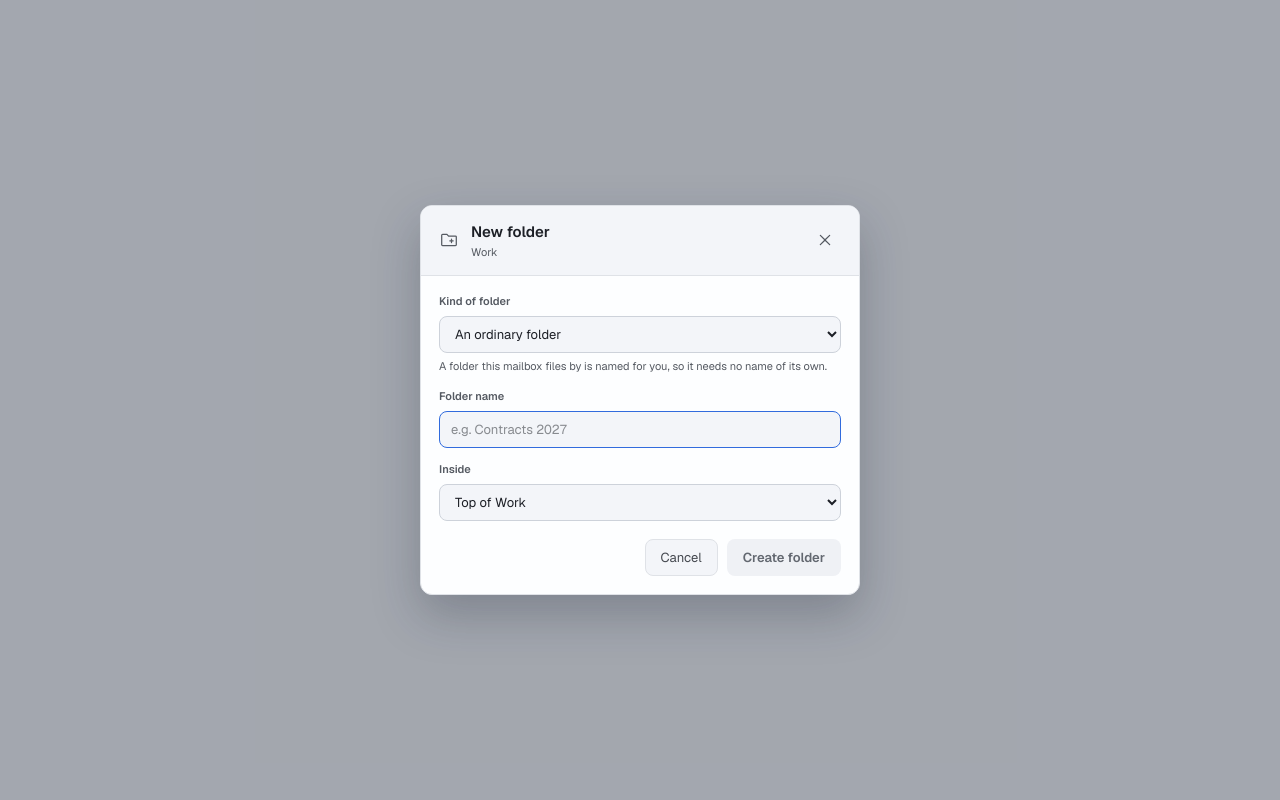
FolderMaintenanceProvider › refuses to save a name a sibling already carries, before the deployment has to say so
Type "Projects" into the field labelled "Folder name" at (640, 429), box [439,410,841,448]
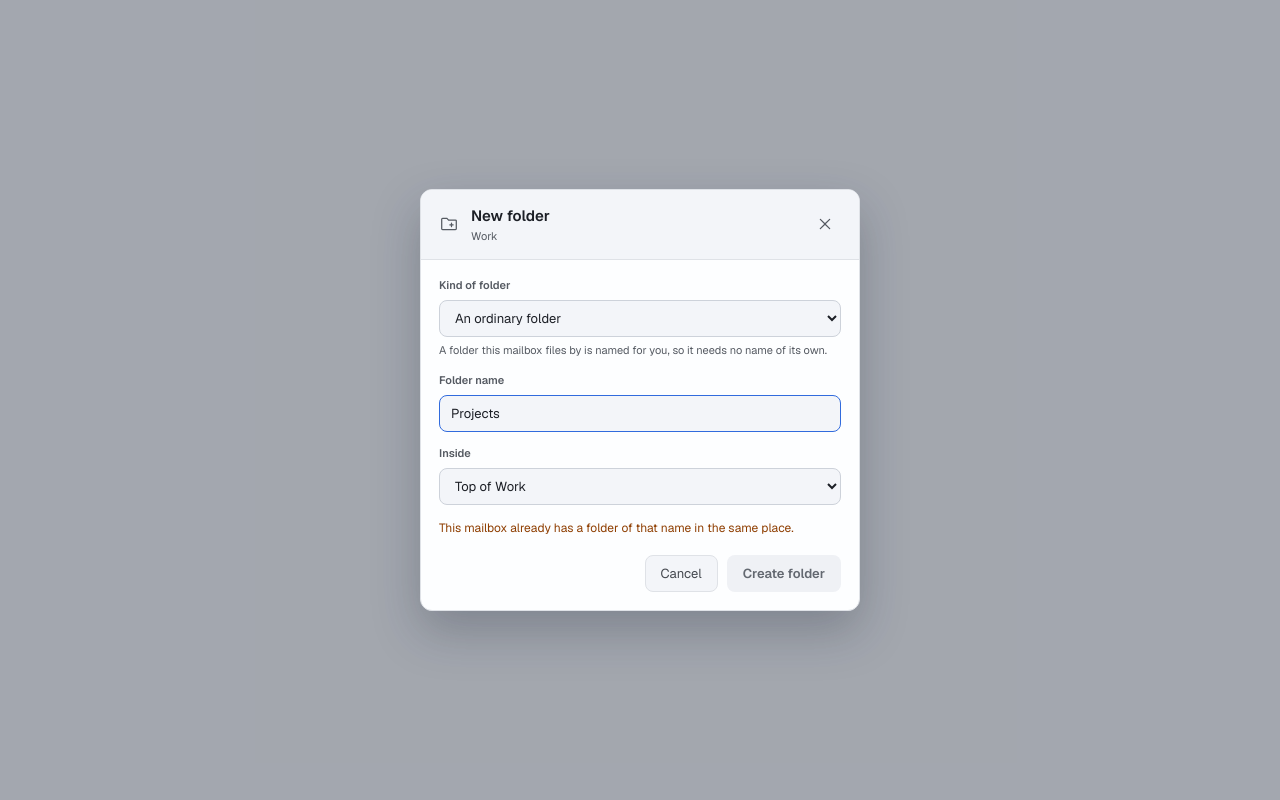
Expected: the button "Create folder" is disabled, [727,555,841,592]
Expected: the text "This mailbox already has a folder of that name in the same place." is shown, [439,519,841,537]
